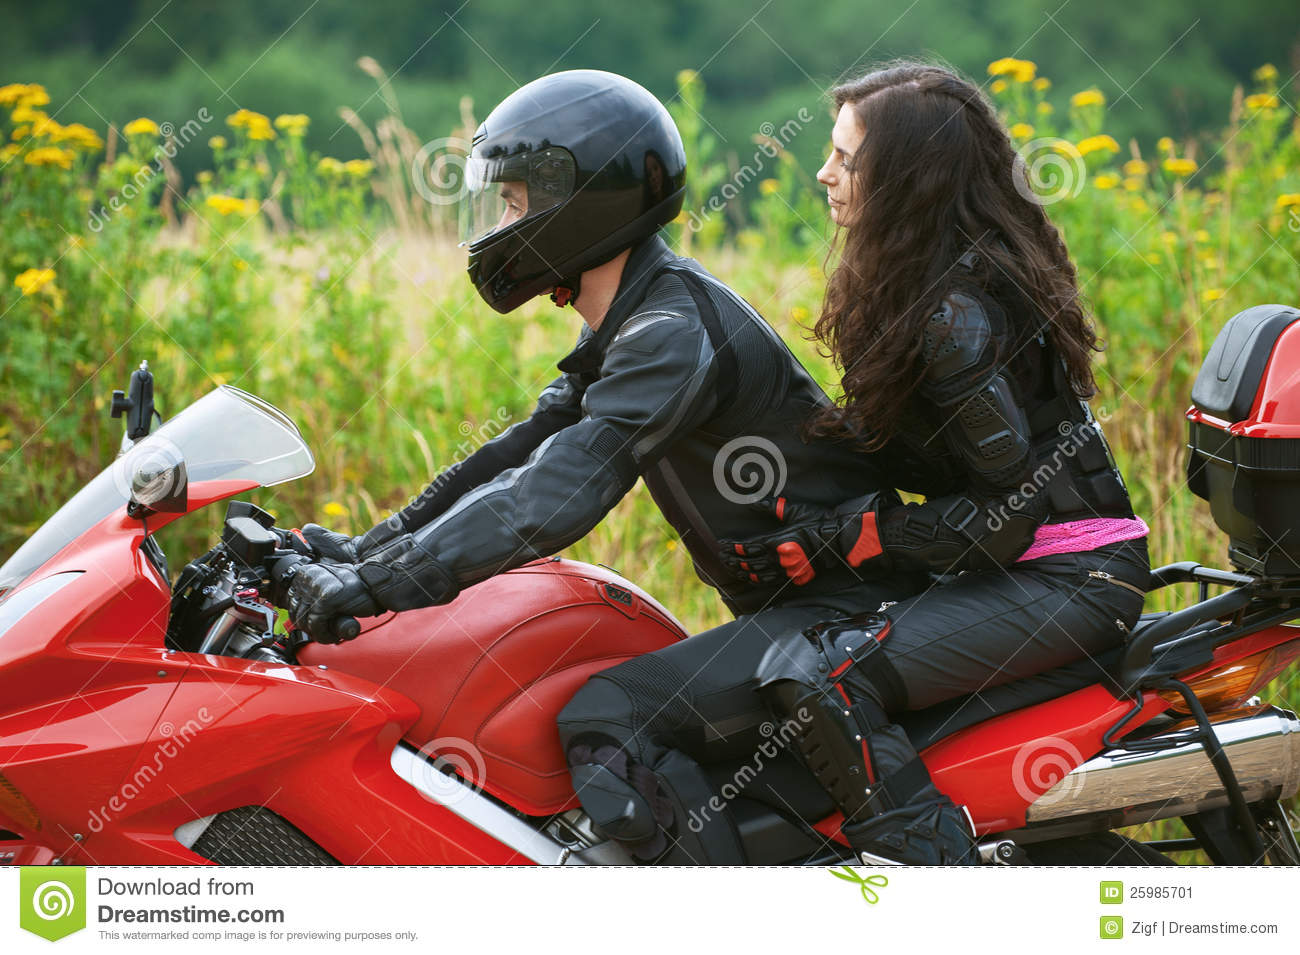helmet: (457, 69, 705, 276)
